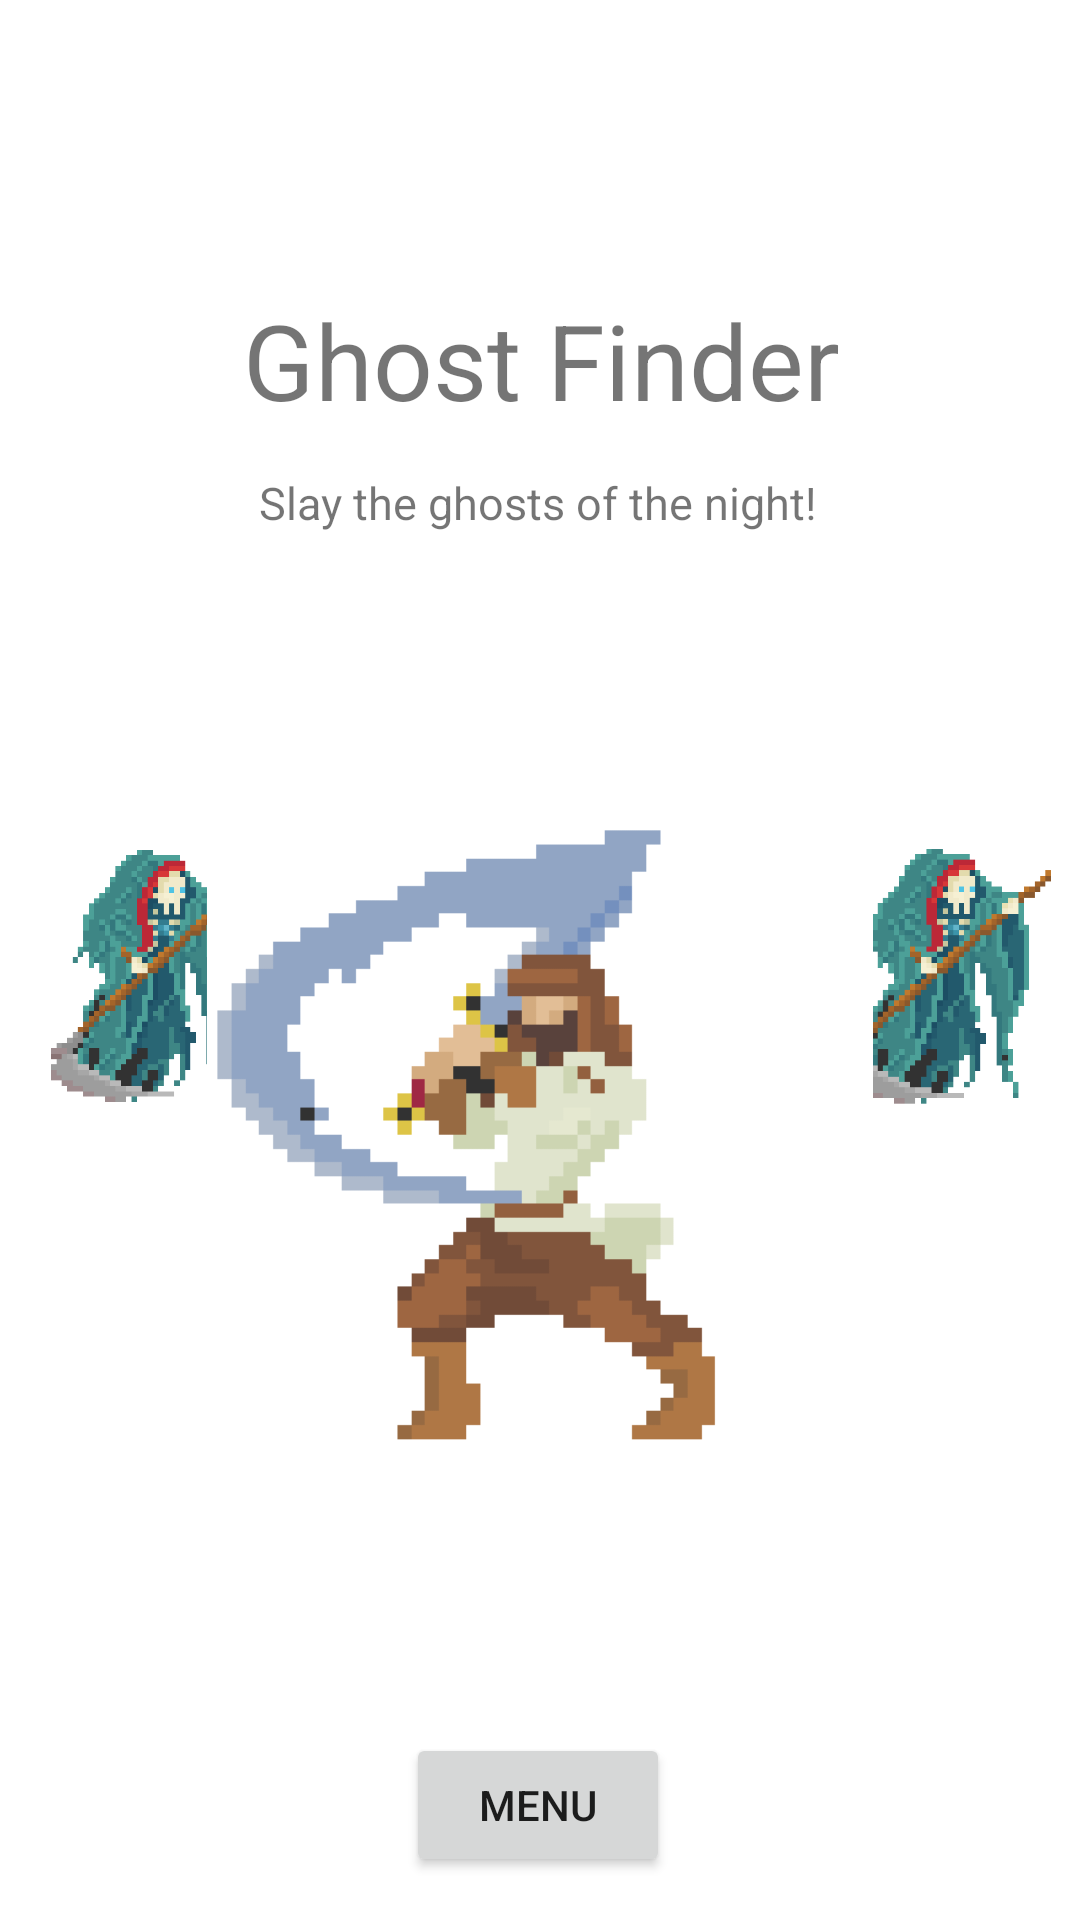

Where to tap for icons on this 1080×1920 app screen, as (x,y):
ghost: (962,976), (129,976)
